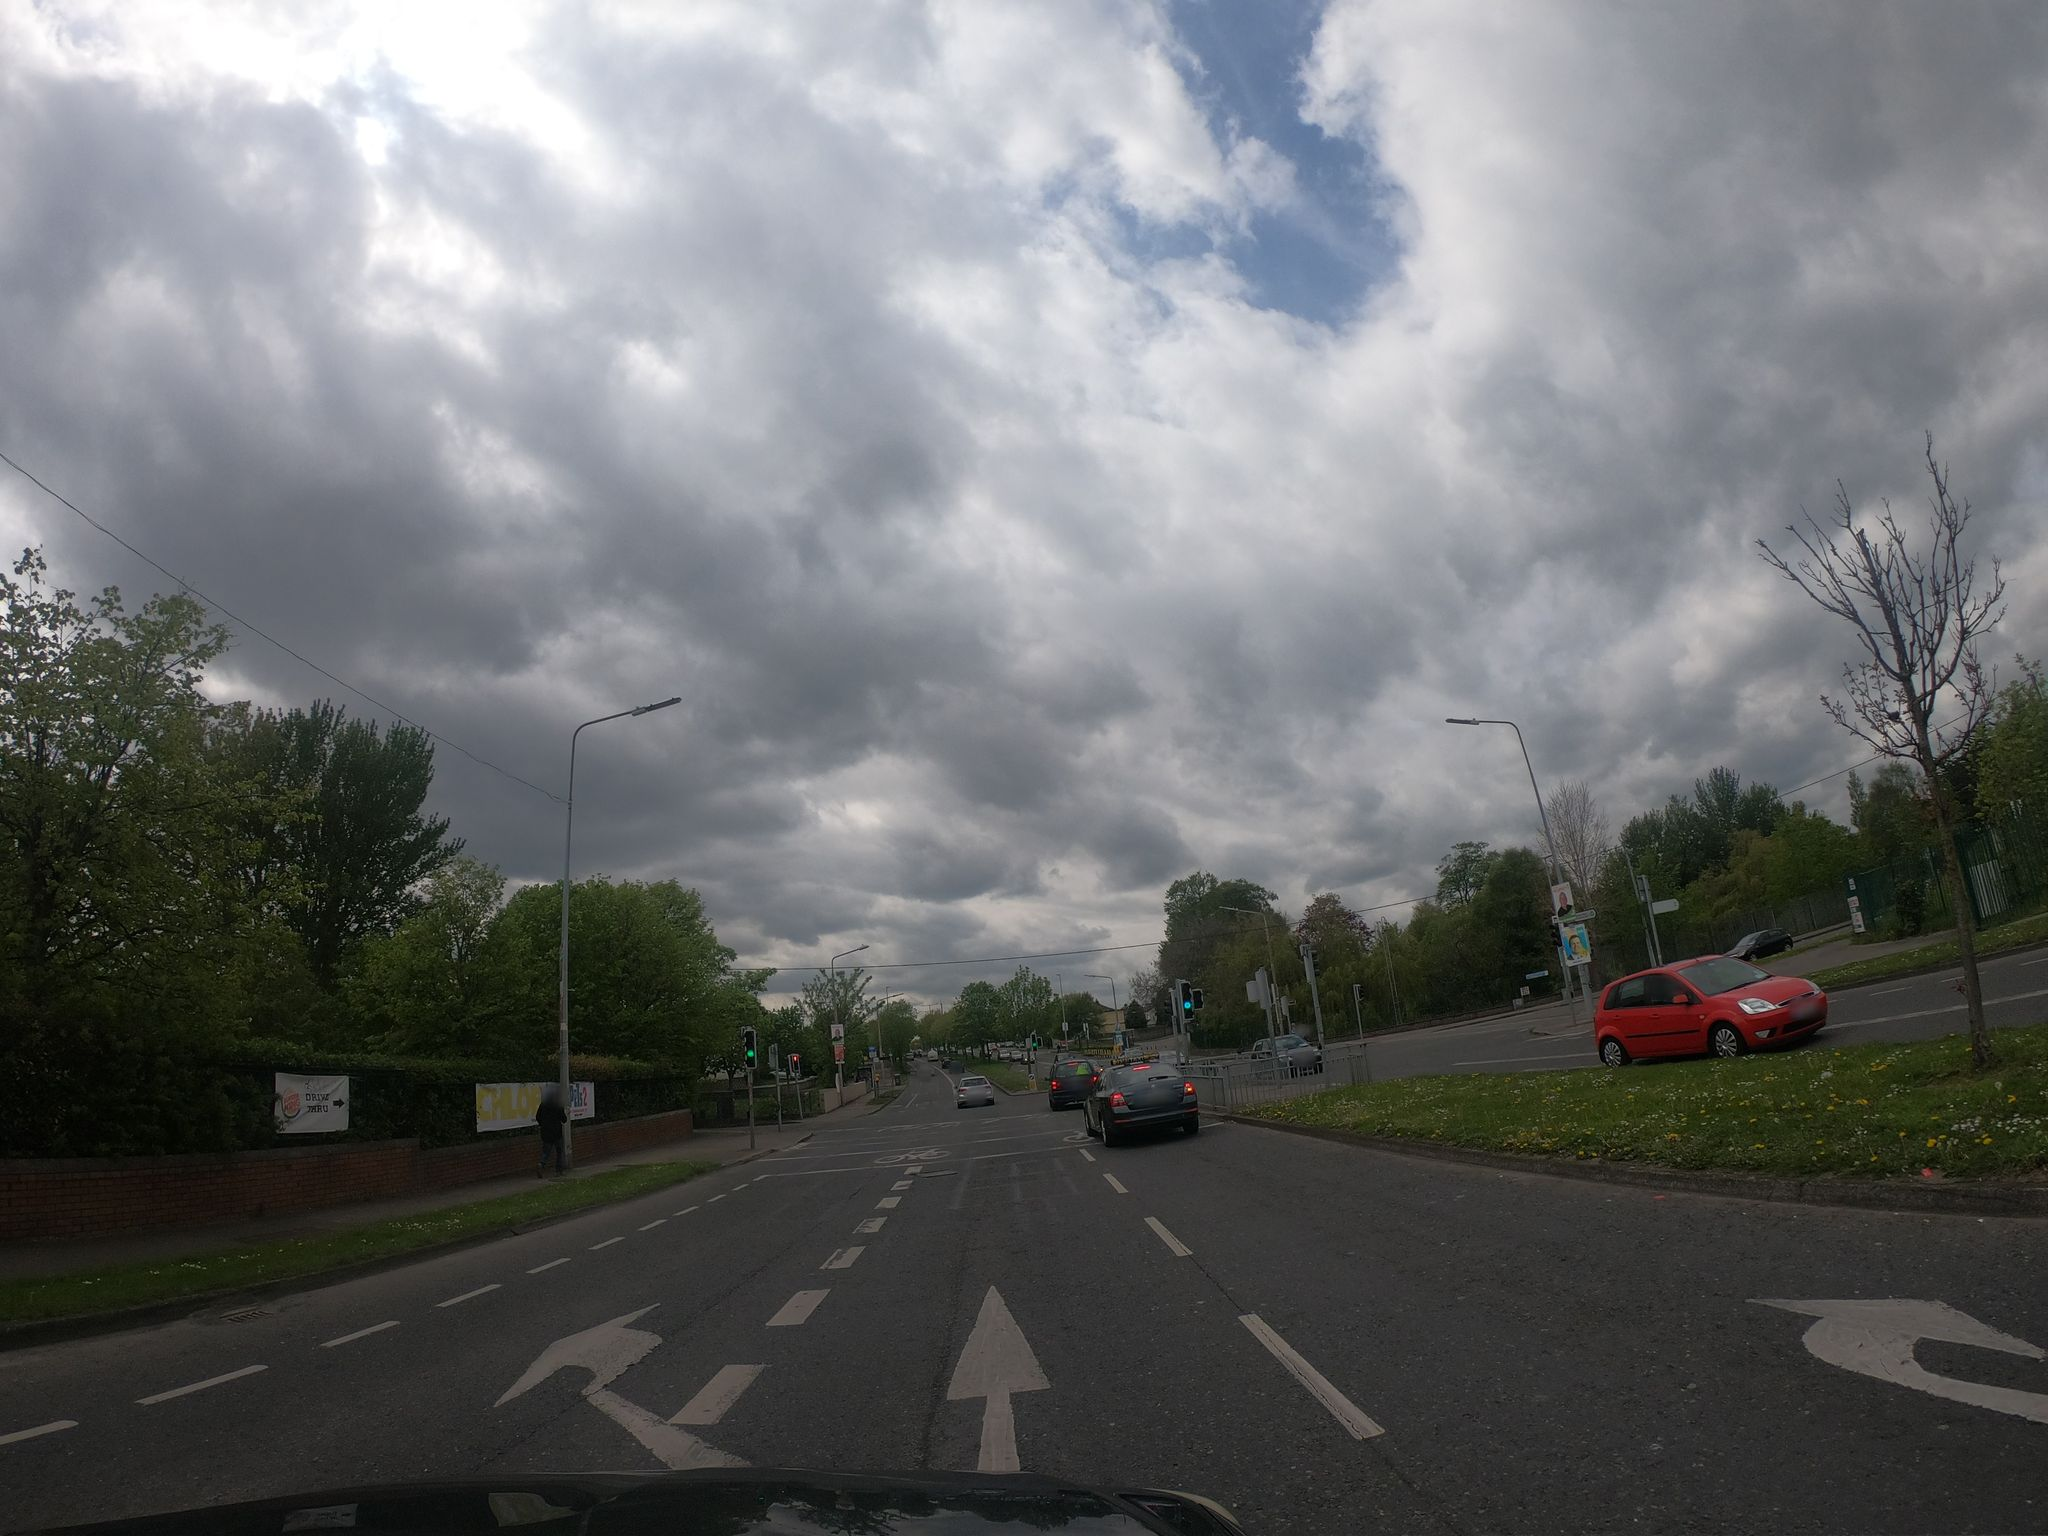vinyl banner: (463, 1076, 598, 1136), (273, 1050, 356, 1146)
